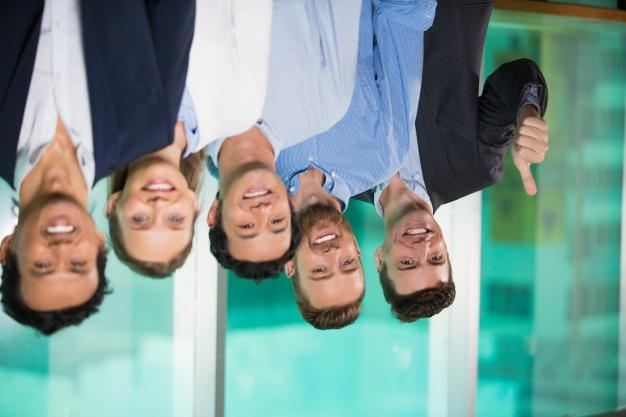thumbsdown: (512, 116, 549, 196)
